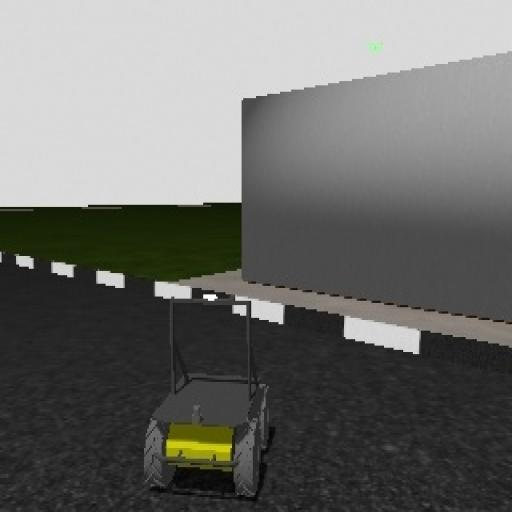huskya200: (145, 282, 273, 512)
